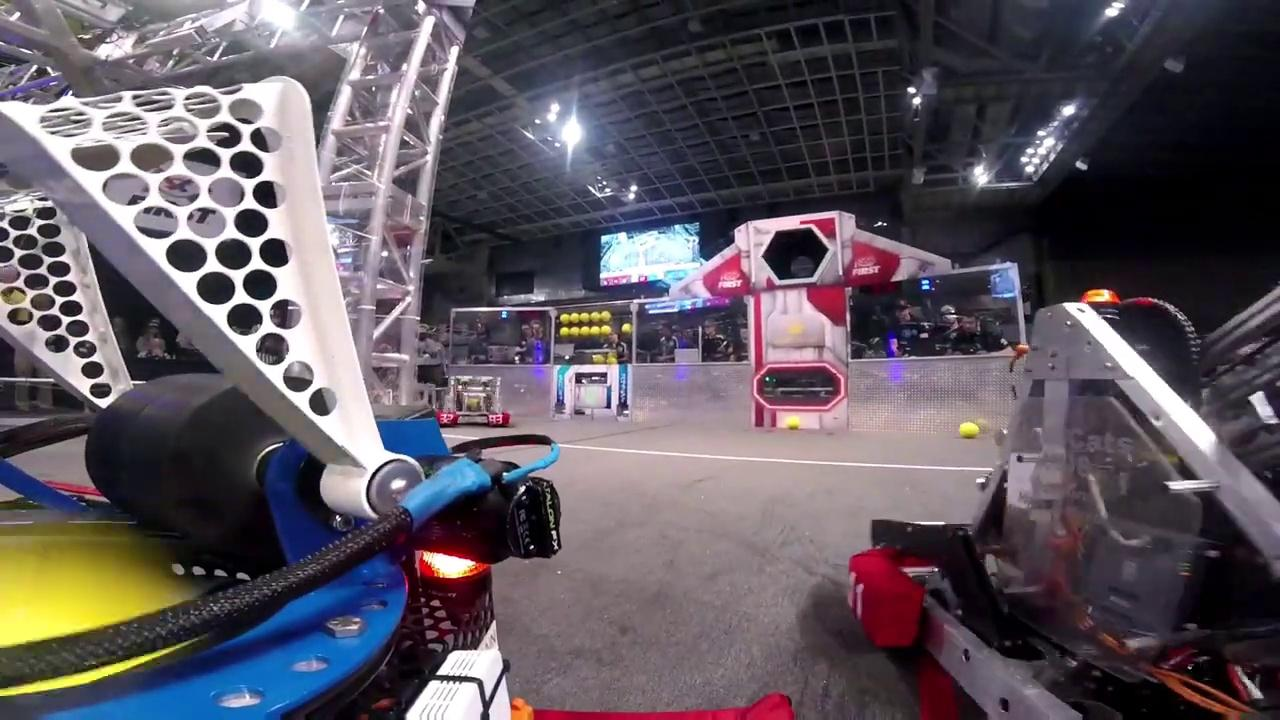robot: (836, 274, 1280, 720), (435, 373, 513, 428)
